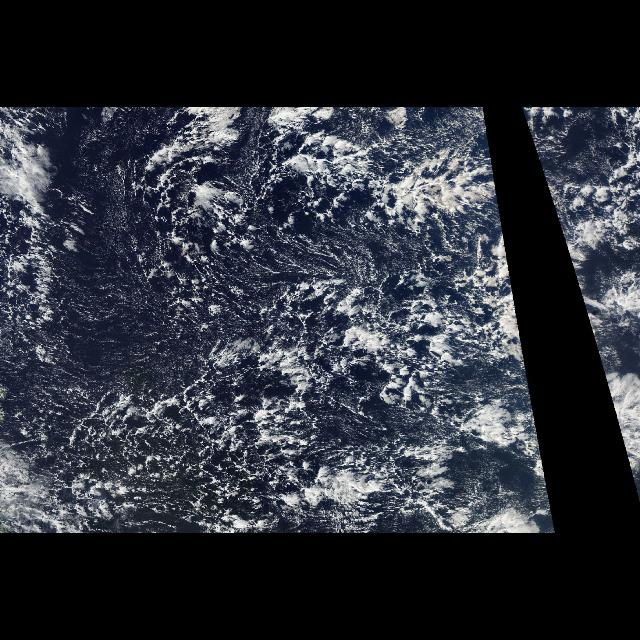Gravel: (3, 107, 507, 533)
Sugar: (50, 163, 318, 363)
